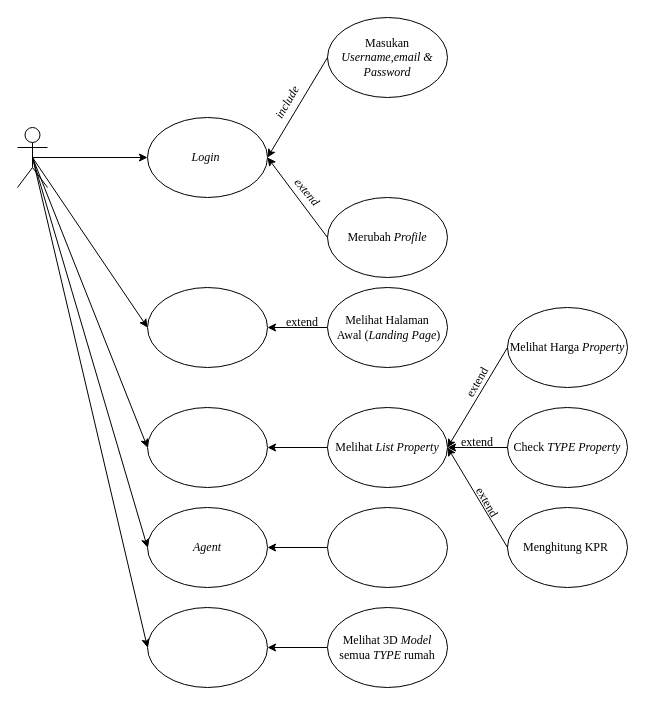
The diagram is 645 pixels wide and 705 high, and some of its shapes have lost their labels. The centre of each missing label's shape, as x and y in pixels:
"Galerry" belongs at point (207, 647).
"Home" belongs at point (207, 327).
"Melihat Keseluruhan Agent Yang Terdaftar" belongs at point (387, 547).
"Property" belongs at point (207, 447).
"User" belongs at point (32, 157).
